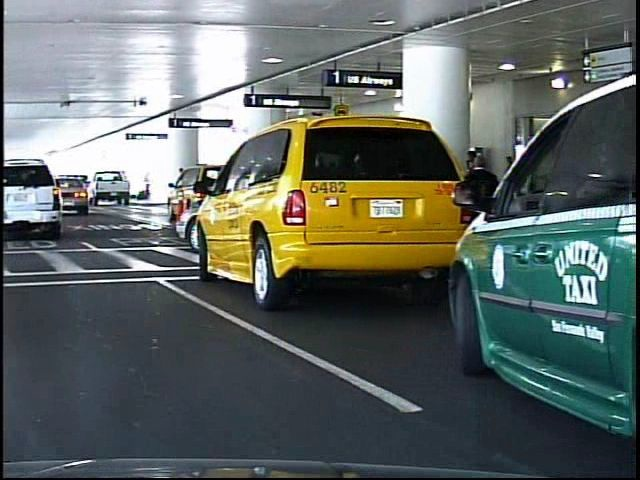person: (457, 149, 495, 278)
